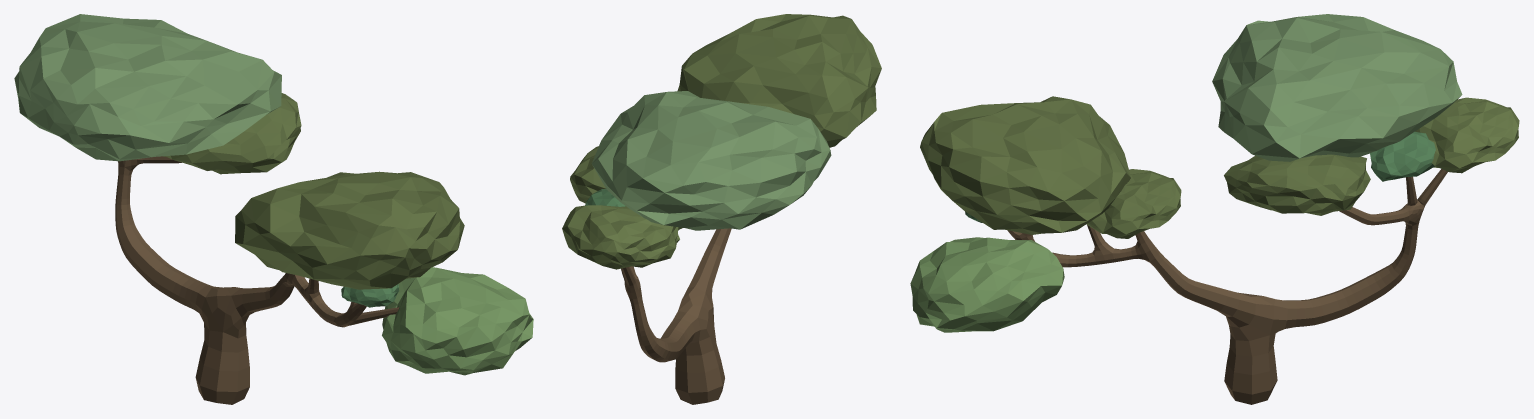
File: Tree1 1.fbx
The picture shows the model from 3 angles, left to right: view 1: azimuth 30°, elevation 25°; view 2: azimuth 150°, elevation 25°; view 3: azimuth 270°, elevation 25°; orthographic projection. The views are drawn at different scales.
Visible parts, largest first — view 1: Icosphere.004, Icosphere.001, Cube, Icosphere.003, Icosphere.007, Icosphere.002; view 2: Icosphere.004, Icosphere.001, Cube, Icosphere.006, Icosphere.007, Icosphere.005; view 3: Icosphere.004, Icosphere.001, Cube, Icosphere.003, Icosphere.007, Icosphere.006, Icosphere, Icosphere.005.
Part boxes in pixels (x1=…): Icosphere.004: x1=14, y1=14, x2=281, y2=161; Icosphere.001: x1=235, y1=171, x2=464, y2=289; Cube: x1=115, y1=156, x2=399, y2=404; Icosphere.003: x1=382, y1=267, x2=533, y2=375; Icosphere.007: x1=163, y1=93, x2=301, y2=174; Icosphere.002: x1=341, y1=284, x2=399, y2=307; Icosphere.004: x1=591, y1=91, x2=831, y2=230; Icosphere.001: x1=677, y1=14, x2=881, y2=147; Cube: x1=621, y1=228, x2=731, y2=404; Icosphere.006: x1=562, y1=205, x2=679, y2=269; Icosphere.007: x1=570, y1=146, x2=682, y2=230; Icosphere.005: x1=585, y1=189, x2=625, y2=206; Icosphere.004: x1=1212, y1=14, x2=1462, y2=161; Icosphere.001: x1=920, y1=96, x2=1130, y2=234; Cube: x1=1007, y1=169, x2=1447, y2=404; Icosphere.003: x1=910, y1=237, x2=1064, y2=332; Icosphere.007: x1=1224, y1=154, x2=1370, y2=215; Icosphere.006: x1=1415, y1=97, x2=1519, y2=173; Icosphere: x1=1086, y1=169, x2=1181, y2=238; Icosphere.005: x1=1370, y1=131, x2=1435, y2=181.
Bounding box in the file's own units: 580 × 615 × 1019.
